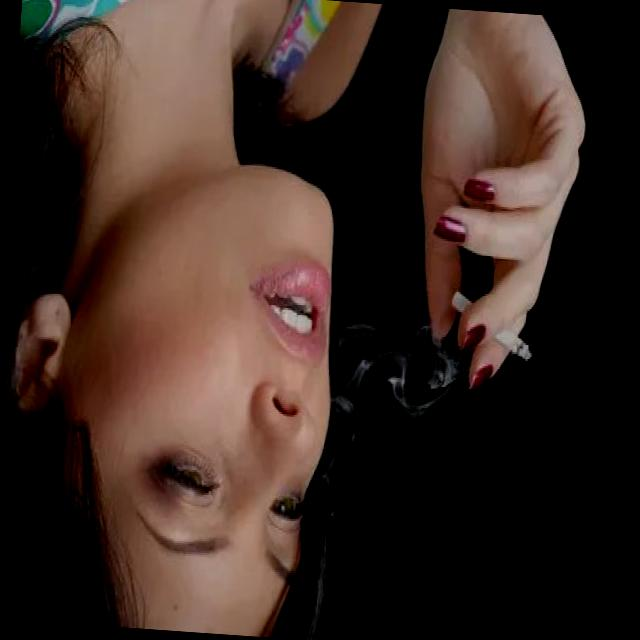cigarette: (448, 285, 536, 363)
